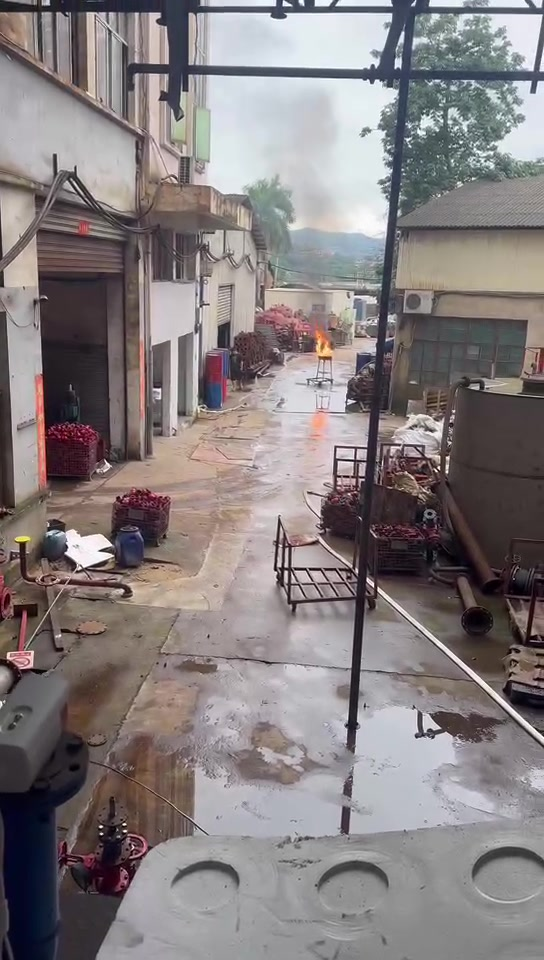fire: (315, 328, 330, 356)
